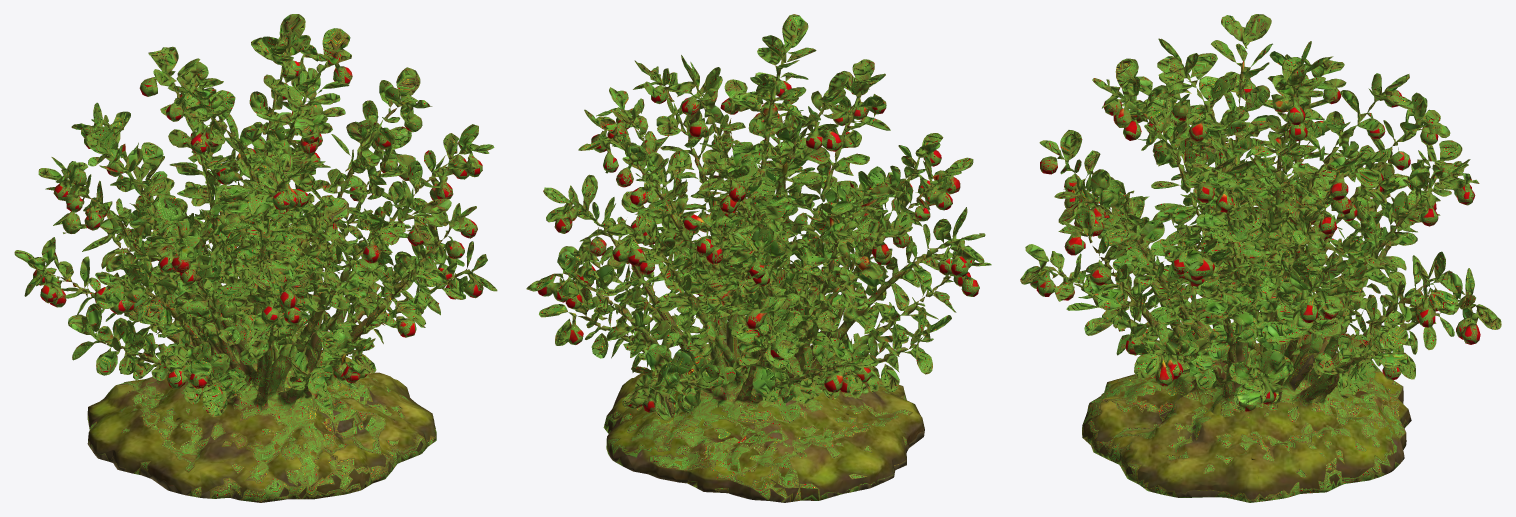
Rendered from berry__crimson-berry-bush.glb.
The picture shows the model from 3 angles, left to right: view 1: azimuth 30°, elevation 25°; view 2: azimuth 150°, elevation 25°; view 3: azimuth 270°, elevation 25°; orthographic projection. The views are drawn at different scales.
Bounding box in the file's own units: 1.83 × 1.72 × 1.89.
1 material, 1 textured.
